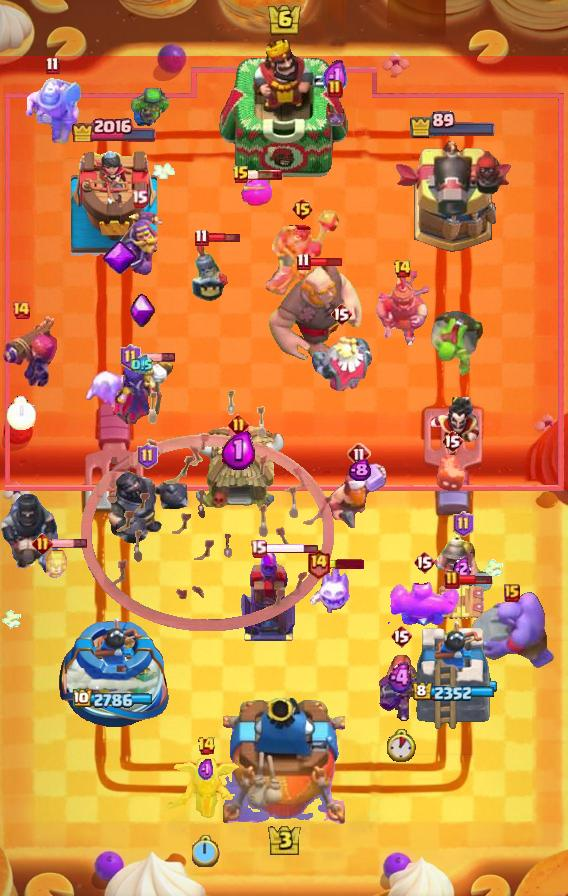bar: (264, 542, 319, 555), (206, 231, 241, 244), (247, 169, 283, 181), (309, 256, 344, 268), (51, 538, 88, 549), (139, 352, 176, 363), (457, 574, 493, 585), (328, 559, 364, 569)
bar-level: (306, 548, 331, 579), (347, 442, 371, 466), (291, 197, 314, 221), (453, 511, 474, 537), (137, 443, 158, 469), (120, 344, 141, 370), (390, 624, 412, 648), (413, 550, 435, 574), (441, 429, 463, 453), (330, 302, 352, 326), (32, 533, 53, 554), (228, 414, 249, 435), (11, 300, 31, 320), (197, 736, 216, 756), (393, 259, 412, 279), (232, 165, 250, 185), (250, 539, 267, 558), (131, 189, 148, 208), (444, 570, 460, 590), (327, 79, 343, 99), (504, 584, 520, 602), (296, 252, 311, 271), (194, 228, 209, 247), (45, 56, 60, 75)
bat: (322, 98, 348, 128)
cannoneer-tower: (392, 138, 514, 256)
clock: (6, 396, 36, 430), (387, 729, 416, 762), (192, 835, 220, 867)
electro-wizard: (424, 397, 482, 461)
elixir: (222, 431, 255, 470), (386, 662, 416, 694), (323, 59, 348, 97), (348, 459, 371, 482), (453, 555, 471, 582), (131, 355, 153, 375), (198, 758, 214, 782)
elixir-golem-mid: (388, 579, 460, 629)
elixir-golem-small: (240, 176, 272, 206)
evolution-symbol: (103, 240, 138, 276), (130, 293, 156, 327)
fire-spirit: (437, 455, 467, 493)
firecracker-evolution: (0, 315, 58, 389)
goblin-ball: (428, 308, 486, 380)
guard: (191, 239, 235, 303)
ice-spirit-evolution: (308, 567, 356, 615), (81, 369, 131, 407)
king-tower: (218, 37, 350, 181), (223, 698, 345, 826)
knight-evolution: (117, 210, 162, 278)
lava-pup: (42, 542, 70, 578)
lumberjack: (327, 460, 391, 530)
miner: (21, 76, 83, 146), (431, 530, 495, 594)
queen-tower: (55, 614, 174, 731), (409, 616, 497, 731), (71, 145, 157, 256)
royal-ghost: (310, 331, 372, 391)
royal-recruit: (375, 271, 430, 345)
spear-goblin: (127, 88, 169, 128)
tesla: (437, 582, 487, 622)
tower-bar: (409, 111, 497, 139), (71, 115, 158, 142), (412, 682, 495, 703), (73, 689, 155, 710)
valkyrie-evolution: (375, 652, 427, 724)
witch: (110, 358, 174, 424)
